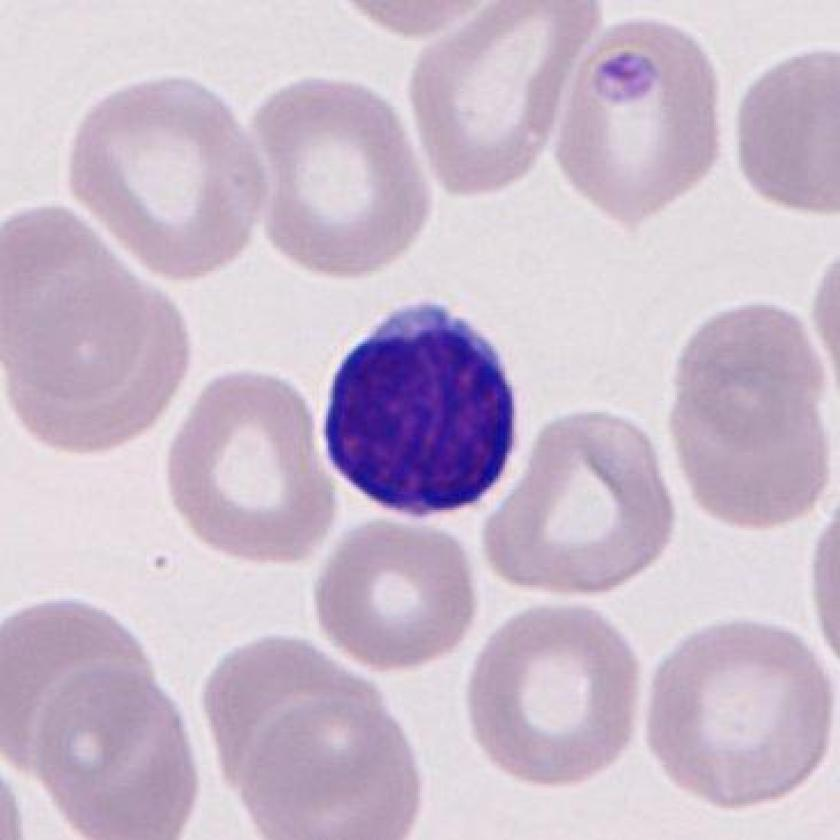lymphocyte: (304, 288, 533, 534)
